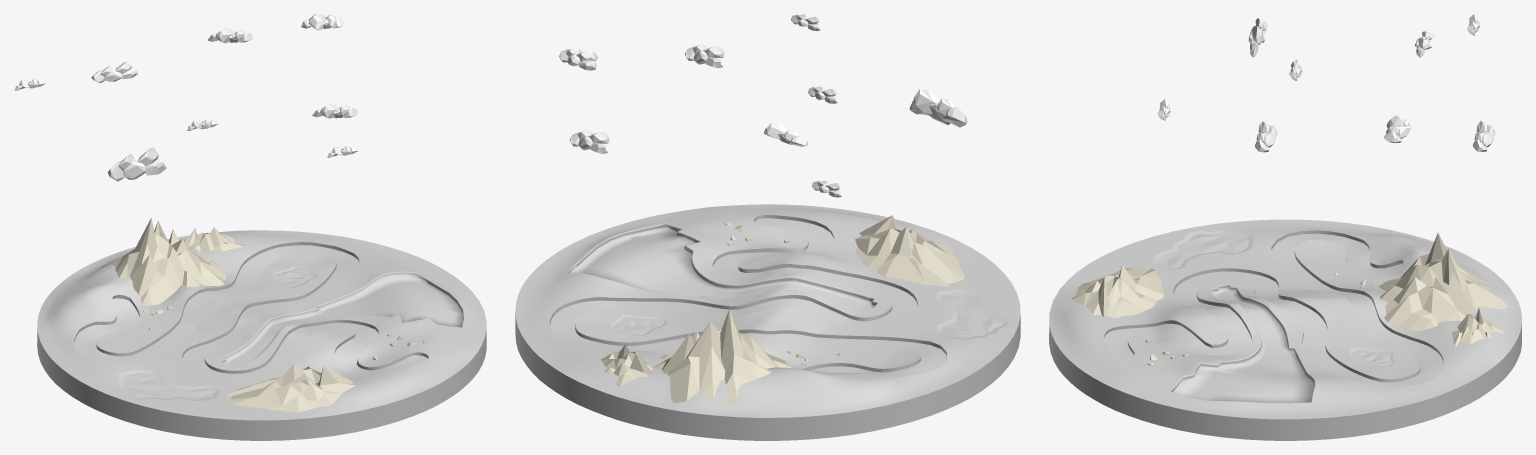
The picture shows the model from 3 angles, left to right: view 1: azimuth 30°, elevation 25°; view 2: azimuth 150°, elevation 25°; view 3: azimuth 270°, elevation 25°; orthographic projection. The views are drawn at different scales.
Parts seen in each view (by area): view 1: Terrain, Road, Rock1, Clouds, Rock3, Rock2; view 2: Terrain, Road, Rock1, Clouds, Rock3, Rock2; view 3: Terrain, Road, Rock1, Rock3, Clouds, Rock2.
Boxes of the visible parts, x1,y1,x2,y2 form: Terrain: [37, 230, 486, 440]; Road: [74, 245, 427, 380]; Rock1: [100, 217, 226, 305]; Clouds: [14, 14, 358, 181]; Rock3: [226, 364, 356, 412]; Rock2: [184, 227, 244, 251]; Terrain: [515, 204, 1020, 440]; Road: [550, 218, 946, 376]; Rock1: [654, 309, 792, 406]; Clouds: [559, 14, 967, 197]; Rock3: [855, 215, 964, 286]; Rock2: [601, 344, 653, 386]; Terrain: [1049, 219, 1521, 440]; Road: [1104, 233, 1443, 388]; Rock1: [1378, 232, 1507, 330]; Rock3: [1071, 265, 1164, 317]; Clouds: [1157, 14, 1495, 152]; Rock2: [1451, 307, 1503, 346].
Bounding box in the file's own units: 49.69 × 32.38 × 49.69.
